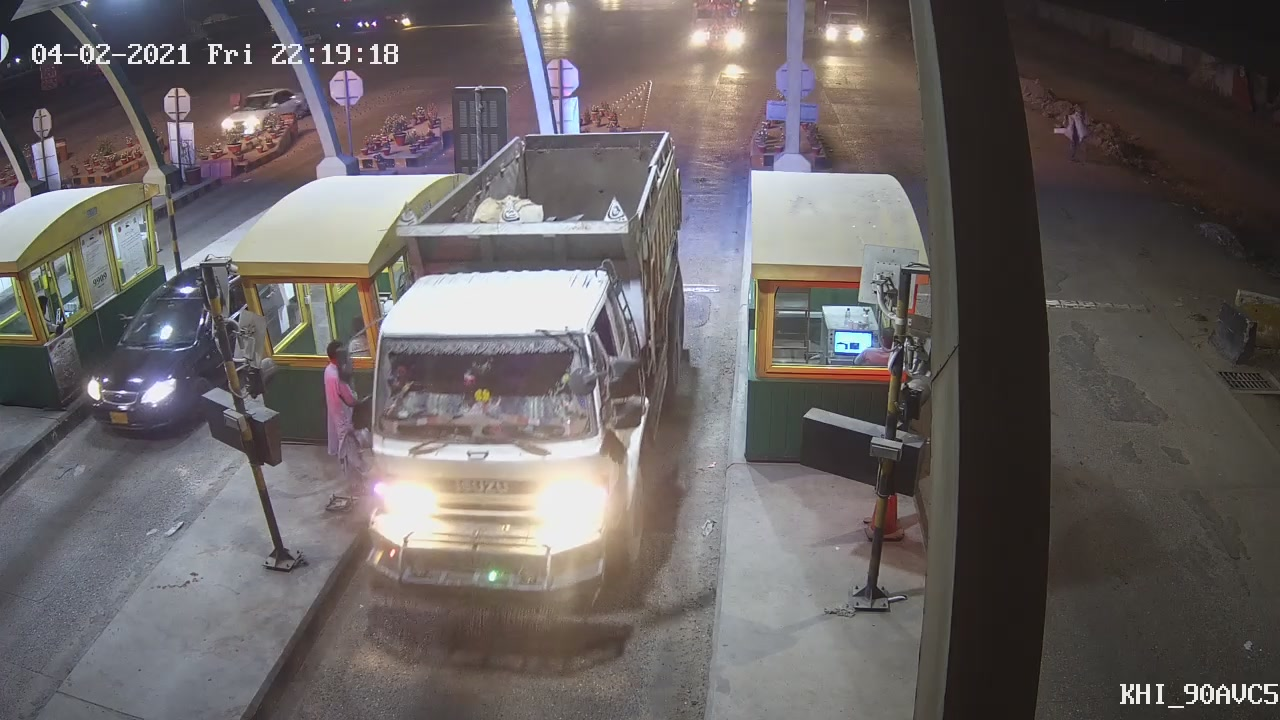F5: (346, 127, 691, 643)
